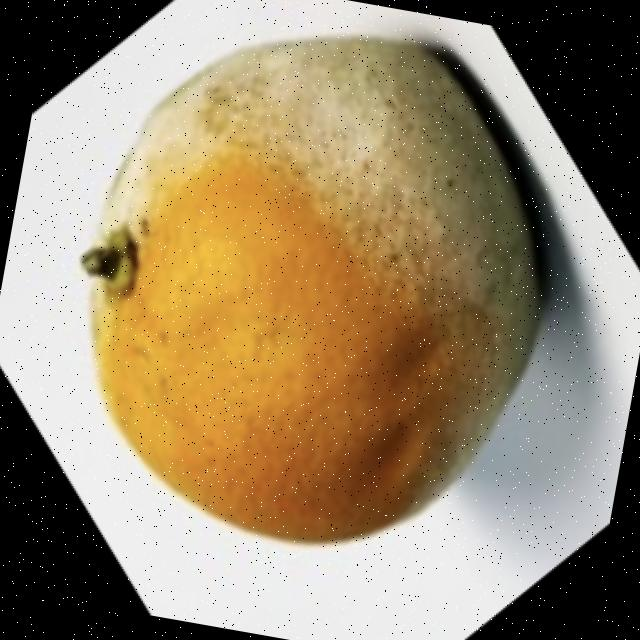Rotten: (47, 0, 584, 583)
